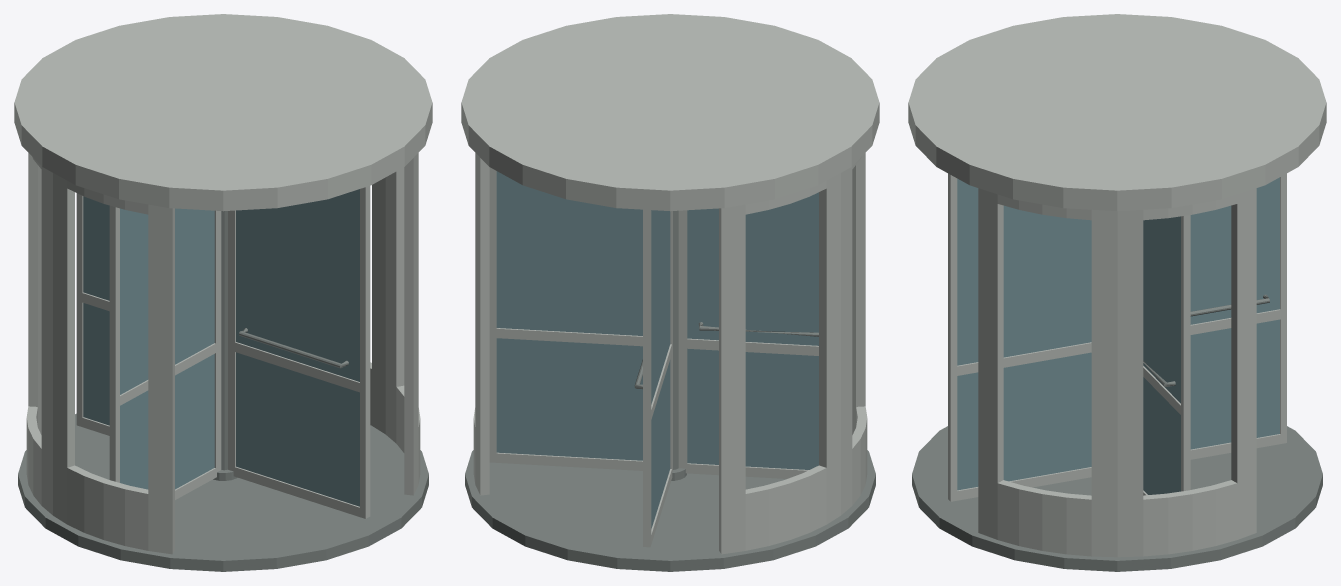
3 renders of one model, left to right at view 1: azimuth 30°, elevation 25°; view 2: azimuth 150°, elevation 25°; view 3: azimuth 270°, elevation 25°, orthographic.
Visible parts, largest first — view 1: WholeCircularCanopy, WholeLeftCurvedEntranceFrame, WholeCircularThreshold, UpperWholeOpaqueLeafInfill_3, LowerWholeOpaqueLeafInfill_3, WholeRightCurvedEntranceFrame, UpperWholeOpaqueLeafInfill_2, WholeRadialLeafFrame_3, LowerWholeOpaqueLeafInfill_2, WholeRadialLeafFrame_2, LowerWholeOpaqueLeafInfill_1, UpperWholeOpaqueLeafInfill_1 (+3 smaller); view 2: WholeCircularCanopy, WholeLeftCurvedEntranceFrame, WholeCircularThreshold, UpperWholeOpaqueLeafInfill_0, LowerWholeOpaqueLeafInfill_0, UpperWholeOpaqueLeafInfill_2, LowerWholeOpaqueLeafInfill_2, WholeRadialLeafFrame_0, WholeRightCurvedEntranceFrame, WholeRadialLeafFrame_2, WholeRadialLeafFrame_1, UpperWholeOpaqueLeafInfill_1 (+2 smaller); view 3: WholeCircularCanopy, WholeRightCurvedEntranceFrame, UpperWholeOpaqueLeafInfill_3, WholeCircularThreshold, LowerWholeOpaqueLeafInfill_3, LowerWholeOpaqueLeafInfill_1, UpperWholeOpaqueLeafInfill_1, UpperWholeOpaqueLeafInfill_0, WholeRadialLeafFrame_3, LowerWholeOpaqueLeafInfill_0, WholeRadialLeafFrame_1, WholeRadialLeafFrame_0.
Part boxes in pixels (x1,y1,x2,y2): WholeCircularCanopy: (14, 14, 432, 211); WholeLeftCurvedEntranceFrame: (26, 153, 174, 554); WholeCircularThreshold: (18, 413, 428, 571); UpperWholeOpaqueLeafInfill_3: (236, 189, 359, 381); LowerWholeOpaqueLeafInfill_3: (236, 352, 359, 506); WholeRightCurvedEntranceFrame: (370, 153, 420, 495); UpperWholeOpaqueLeafInfill_2: (120, 208, 214, 394); WholeRadialLeafFrame_3: (228, 186, 370, 518); LowerWholeOpaqueLeafInfill_2: (120, 354, 214, 489); WholeRadialLeafFrame_2: (109, 205, 221, 499); LowerWholeOpaqueLeafInfill_1: (83, 303, 109, 425); UpperWholeOpaqueLeafInfill_1: (83, 196, 109, 300); WholeCircularCanopy: (461, 14, 879, 211); WholeLeftCurvedEntranceFrame: (719, 153, 867, 554); WholeCircularThreshold: (465, 450, 875, 571); UpperWholeOpaqueLeafInfill_0: (496, 171, 642, 335); LowerWholeOpaqueLeafInfill_0: (496, 338, 642, 460); UpperWholeOpaqueLeafInfill_2: (687, 192, 818, 345); LowerWholeOpaqueLeafInfill_2: (687, 348, 818, 469); WholeRadialLeafFrame_0: (489, 167, 642, 470); WholeRightCurvedEntranceFrame: (473, 153, 489, 495); WholeRadialLeafFrame_2: (678, 210, 818, 478); WholeRadialLeafFrame_1: (643, 209, 672, 547); UpperWholeOpaqueLeafInfill_1: (651, 210, 670, 404); WholeCircularCanopy: (908, 14, 1326, 211); WholeRightCurvedEntranceFrame: (978, 188, 1256, 557); UpperWholeOpaqueLeafInfill_3: (957, 178, 1091, 365); WholeCircularThreshold: (912, 426, 1322, 571); LowerWholeOpaqueLeafInfill_3: (957, 352, 1091, 490); LowerWholeOpaqueLeafInfill_1: (1190, 319, 1279, 449); UpperWholeOpaqueLeafInfill_1: (1190, 177, 1279, 324); UpperWholeOpaqueLeafInfill_0: (1143, 216, 1180, 403); WholeRadialLeafFrame_3: (948, 173, 1091, 501); LowerWholeOpaqueLeafInfill_0: (1143, 377, 1180, 494); WholeRadialLeafFrame_1: (1190, 173, 1286, 459); WholeRadialLeafFrame_0: (1143, 215, 1190, 495).
Size of the model in its own units: 2.4 by 2.42 by 2.4.
